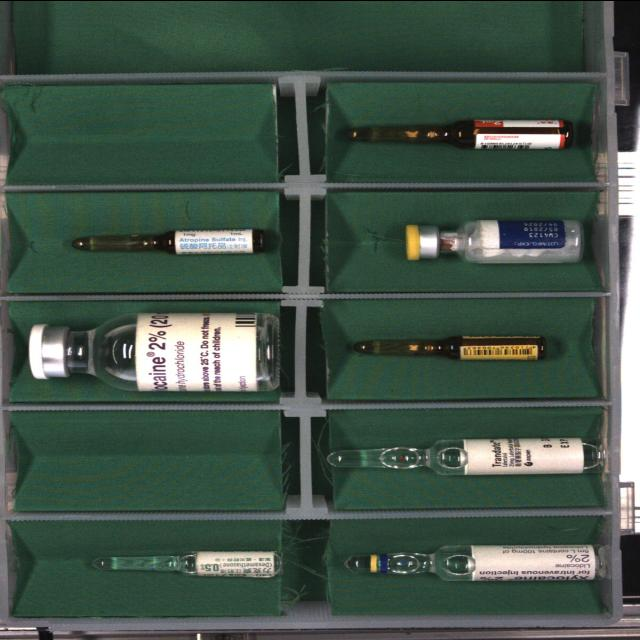Vials: (29, 312, 279, 391), (406, 219, 583, 262)
